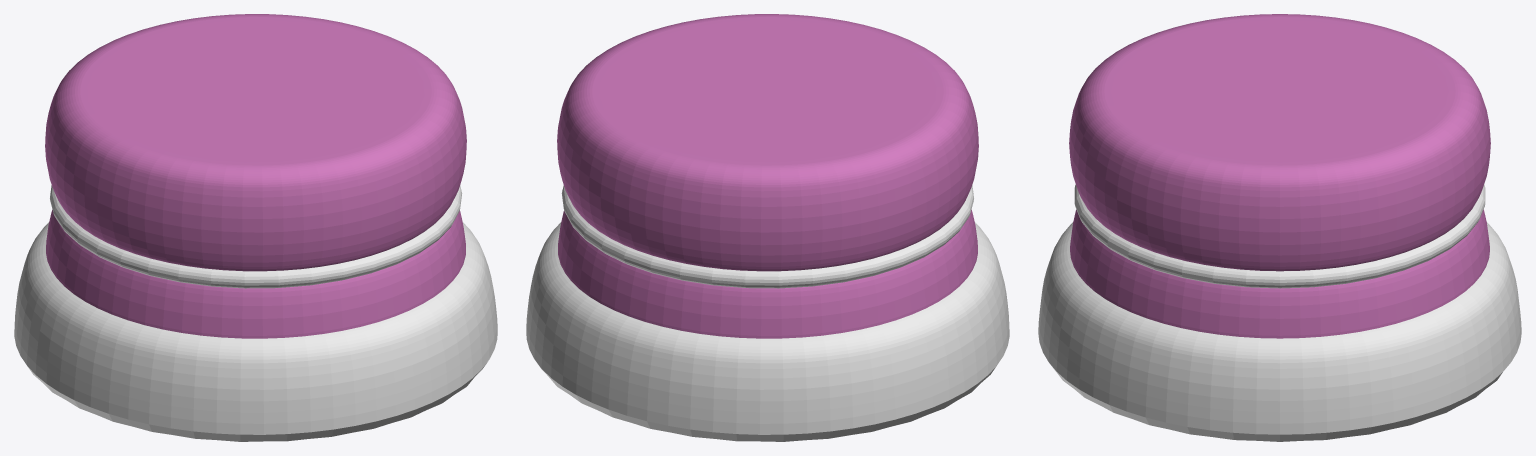
The model's file is _HashiTwoNodeShare.fbx.
3 views of the same model, side by side, from view 1: azimuth 30°, elevation 25°; view 2: azimuth 150°, elevation 25°; view 3: azimuth 270°, elevation 25° (orthographic).
Parts seen in each view (by area): view 1: _HashiOneNode.002, _HasHiNodeGround, _HashiOneNode, Torus.001; view 2: _HashiOneNode.002, _HasHiNodeGround, _HashiOneNode, Torus.001; view 3: _HashiOneNode.002, _HasHiNodeGround, _HashiOneNode, Torus.001.
Part boxes in pixels (x1,y1,x2,y2): _HashiOneNode.002: [45, 14, 466, 271]; _HasHiNodeGround: [14, 222, 497, 441]; _HashiOneNode: [46, 210, 465, 338]; Torus.001: [50, 185, 462, 288]; _HashiOneNode.002: [557, 14, 978, 271]; _HasHiNodeGround: [526, 222, 1009, 441]; _HashiOneNode: [558, 210, 977, 338]; Torus.001: [561, 185, 973, 288]; _HashiOneNode.002: [1069, 14, 1490, 271]; _HasHiNodeGround: [1038, 222, 1521, 441]; _HashiOneNode: [1070, 209, 1489, 338]; Torus.001: [1074, 184, 1485, 288].
Bounding box in the file's own units: 226 × 226 × 136.
